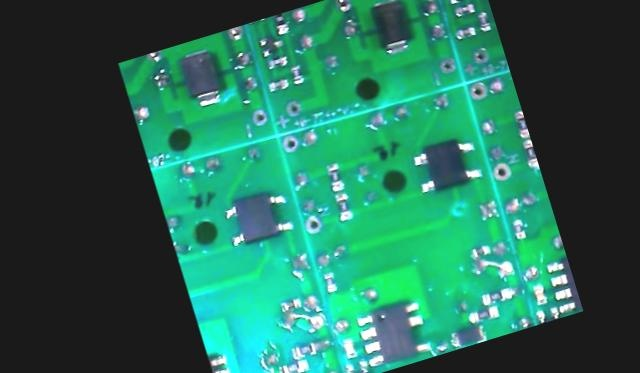chip-capacitor: (340, 334, 358, 359), (531, 281, 549, 306)
chip-resistor: (330, 188, 355, 223), (322, 159, 347, 192), (289, 338, 319, 360), (520, 136, 540, 168), (277, 355, 312, 373), (466, 304, 497, 324), (510, 107, 530, 138), (479, 285, 508, 305), (271, 12, 292, 36), (278, 293, 304, 312), (320, 268, 339, 293), (264, 51, 290, 69), (266, 74, 290, 93), (453, 21, 478, 39), (475, 7, 493, 32), (287, 62, 306, 85), (509, 216, 527, 240), (452, 0, 477, 17), (469, 242, 491, 257)
diode: (174, 43, 229, 111), (365, 0, 418, 57), (447, 321, 488, 350)
ic: (352, 292, 435, 369), (218, 183, 298, 250), (408, 129, 485, 197), (533, 301, 563, 325), (341, 353, 373, 373)
transistor: (256, 30, 286, 57)
